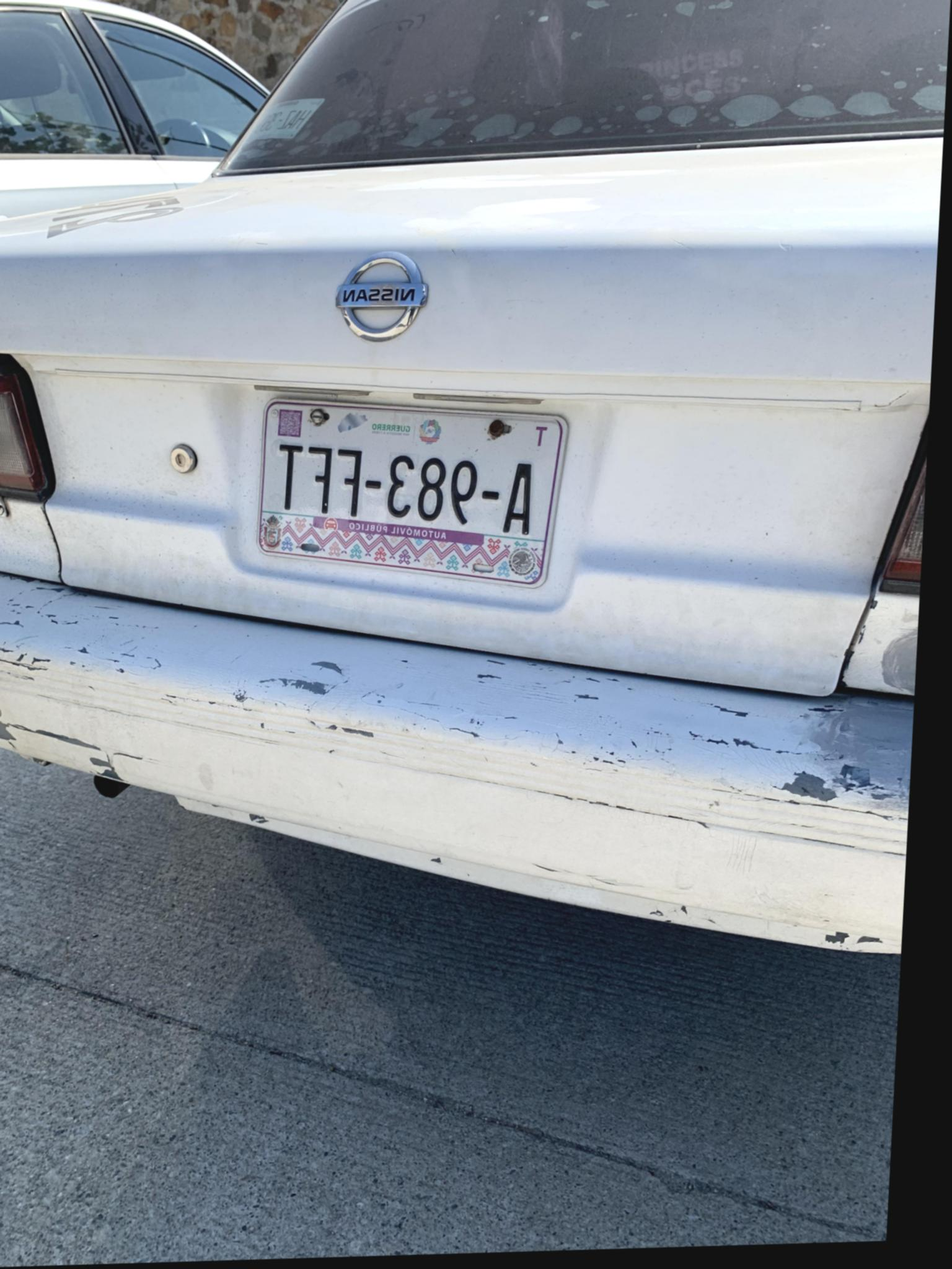License_Plate: (234, 378, 589, 593)
